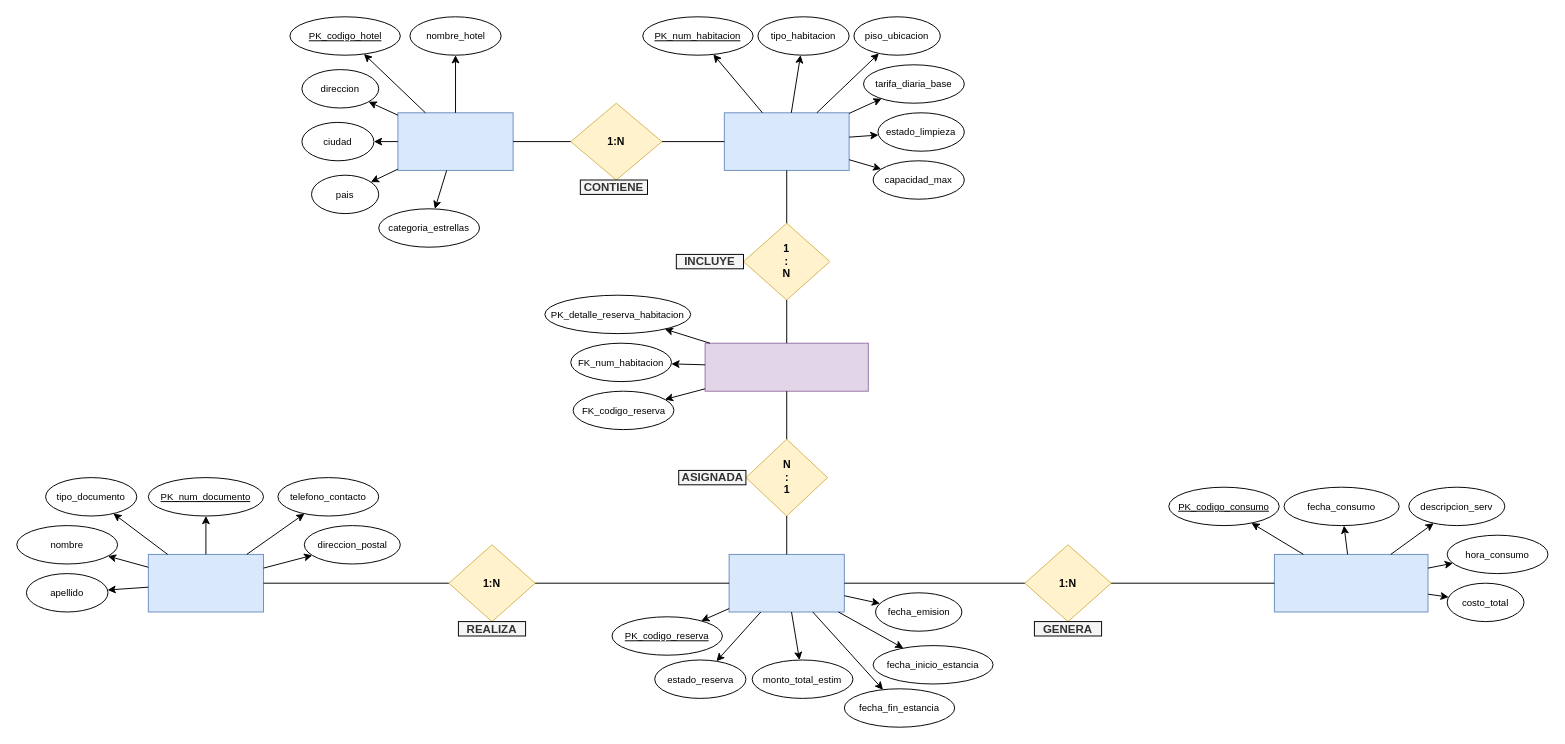
Some shapes in this 1565 by 744 pixel diagram are drawn without their labels. Here are the shapes that lost their labels. From the top down, the box of each, then its label:
(397, 112, 513, 170): HOTEL
(723, 112, 849, 170): HABITACION
(704, 342, 868, 391): DETALLE_RESERVA_ HABITACION
(147, 553, 264, 612): HUESPED
(728, 553, 844, 612): RESERVA
(1273, 553, 1428, 612): CONSUMO
